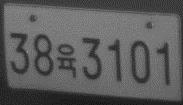0: (129, 40, 151, 84)
1: (107, 37, 123, 83), (155, 41, 170, 86)
3: (80, 36, 103, 79), (8, 31, 30, 75)
8: (33, 33, 54, 76)
육: (56, 42, 77, 80)
